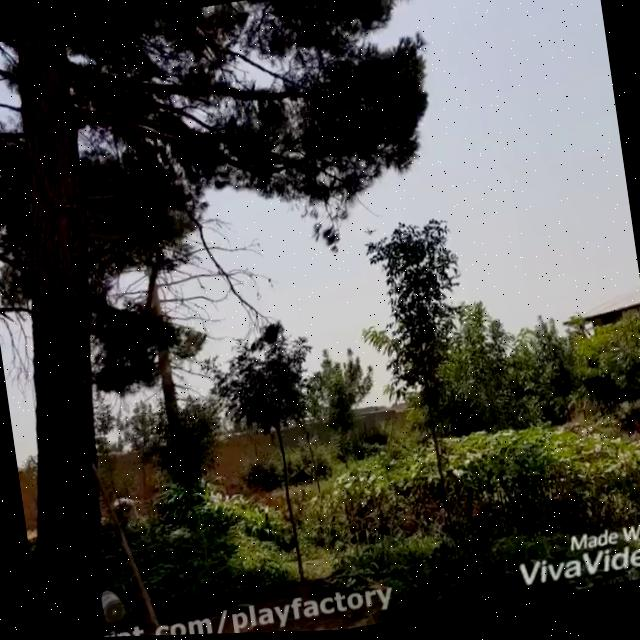drone: (358, 221, 381, 245)
